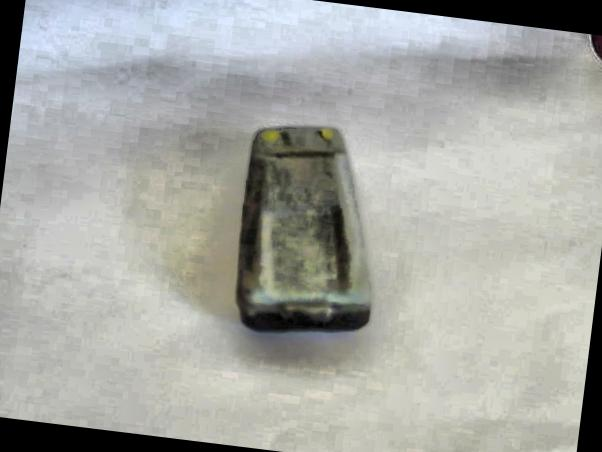normal_car: (223, 115, 398, 348)
